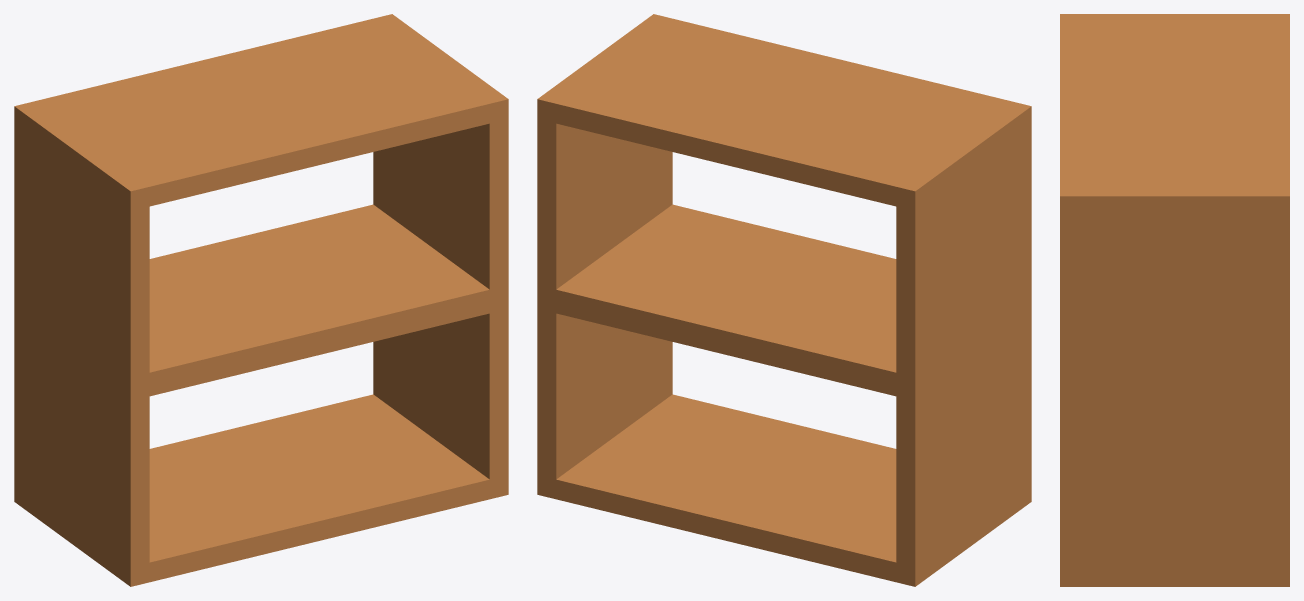
Rendered from MeubleRangementSalon7.fbx.
3 views of the same model, side by side, from view 1: azimuth 30°, elevation 25°; view 2: azimuth 150°, elevation 25°; view 3: azimuth 270°, elevation 25° (orthographic).
Parts seen in each view (by area): view 1: EtagereS; view 2: EtagereS; view 3: EtagereS.
Part boxes in pixels (box(x1,y1,x2,y2)): EtagereS: box(14, 14, 508, 586); EtagereS: box(537, 14, 1031, 586); EtagereS: box(1060, 14, 1289, 586).
Bounding box in the file's own units: 300 × 300 × 160.
